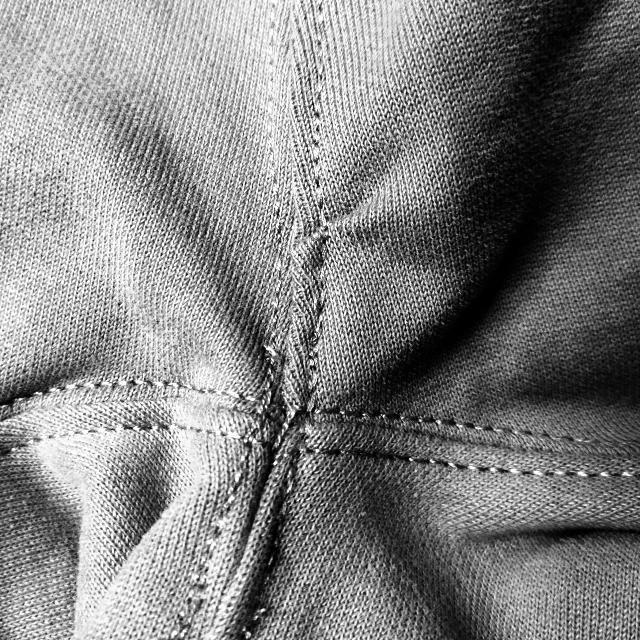Sewing_error: (249, 398, 310, 453)
